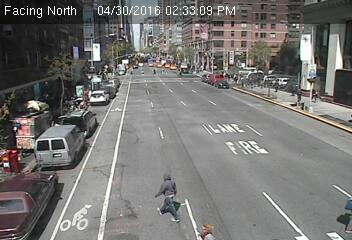neg: (216, 111, 253, 161), (278, 76, 310, 117), (246, 58, 274, 95), (194, 64, 219, 98), (64, 85, 88, 117), (146, 56, 170, 88), (72, 198, 96, 230), (9, 142, 32, 173), (21, 97, 40, 122), (326, 206, 343, 229), (88, 39, 105, 61), (291, 35, 307, 57), (227, 32, 241, 50)
pos: (148, 168, 190, 224)
